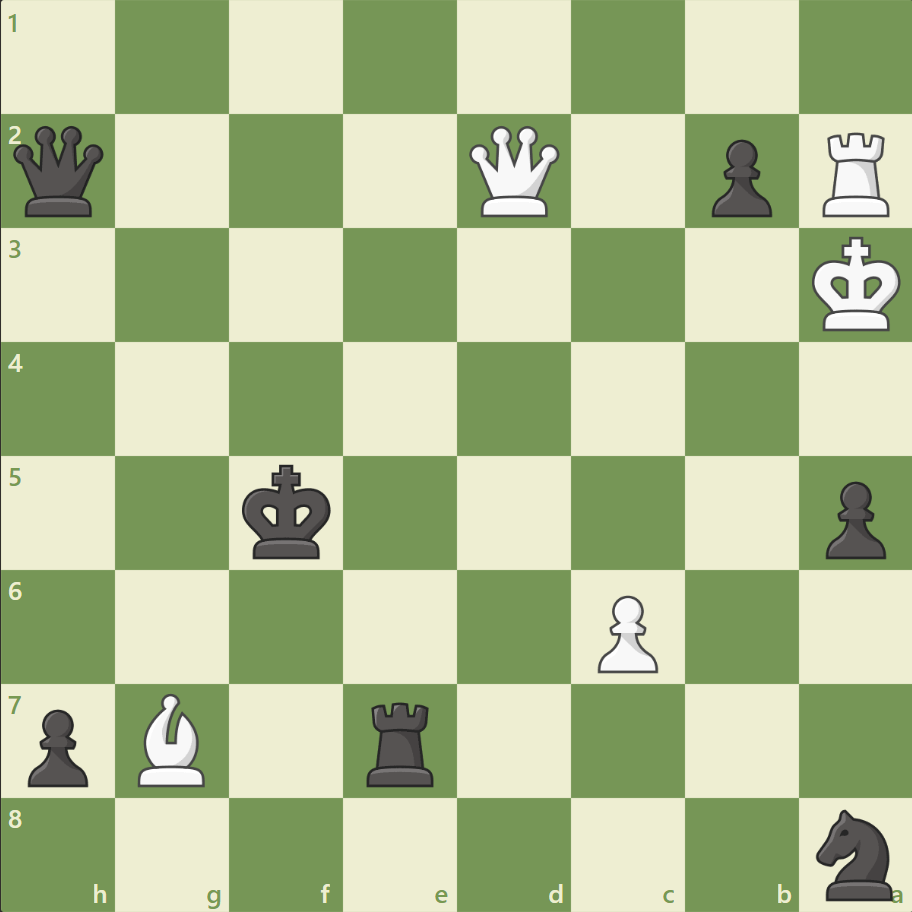B: (131, 687, 215, 790)
K: (806, 231, 906, 339)
P: (588, 586, 662, 677)
Q: (464, 122, 563, 222)
R: (814, 125, 897, 222)
k: (238, 458, 338, 566)
n: (806, 802, 903, 904)
p: (20, 700, 95, 791), (701, 132, 776, 223), (815, 473, 889, 564)
q: (10, 122, 109, 222)
r: (360, 693, 442, 790)
